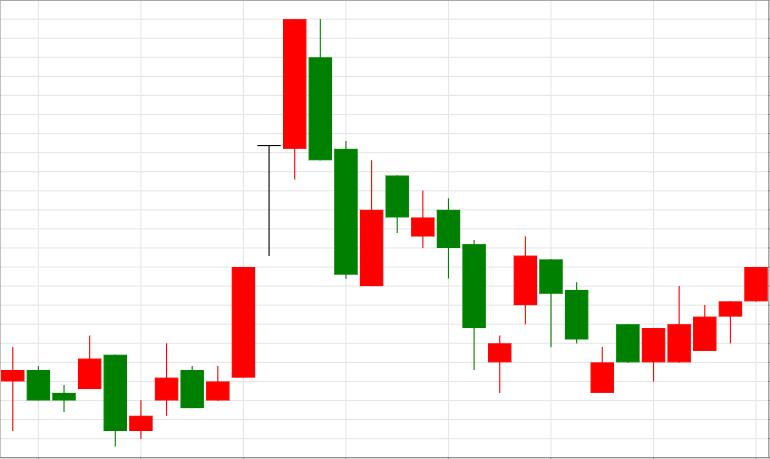morning_star_rise: (385, 176, 538, 394)
